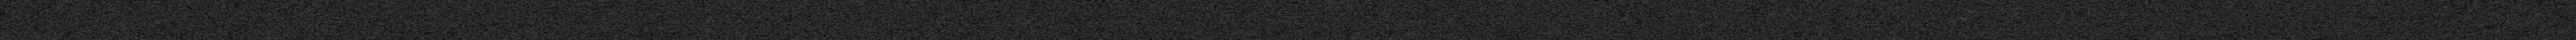wv_cw: (264, 0, 268, 40), (2351, 0, 2354, 40)
wv_lsb: (2206, 0, 2210, 40)
wv_wbfm: (2379, 0, 2412, 40), (145, 0, 174, 40)
